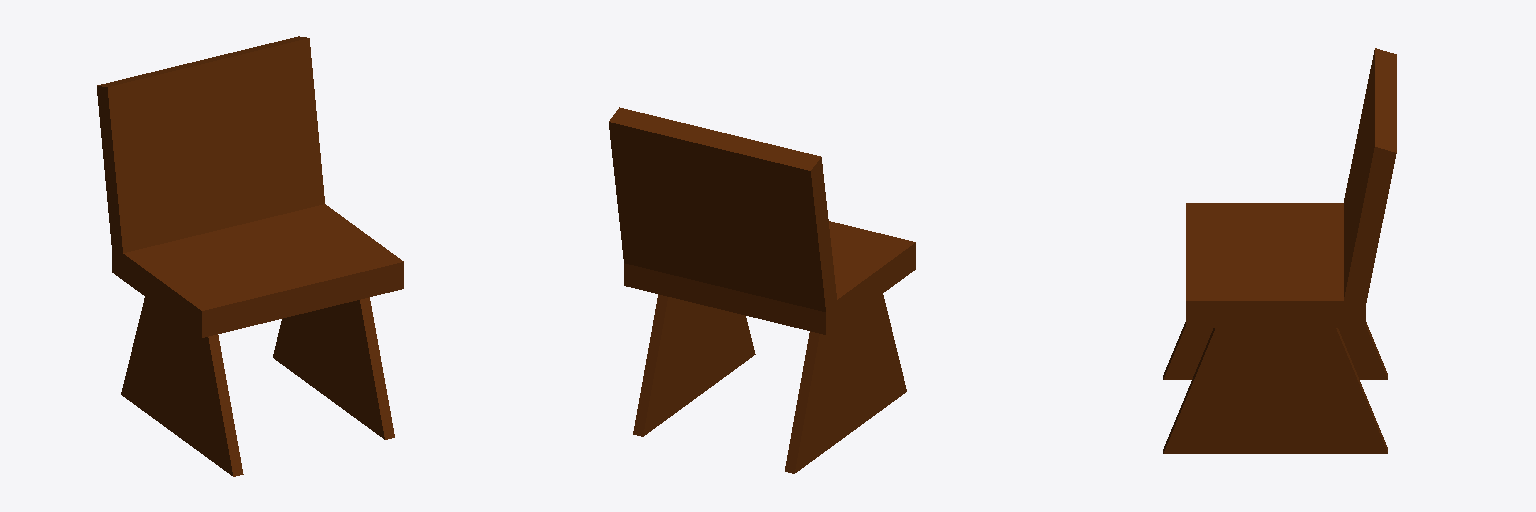
The model's file is bench1.obj.
3 renders of one model, left to right at view 1: azimuth 30°, elevation 25°; view 2: azimuth 150°, elevation 25°; view 3: azimuth 270°, elevation 25°, orthographic.
Visible parts, largest first — view 1: Object.1, Object.4, Object.2, Object.3; view 2: Object.1, Object.2, Object.4, Object.3; view 3: Object.3, Object.4, Object.1, Object.2.
Part boxes in pixels (left/top/right/bottom): Object.1: left=97, top=36, right=324, bottom=256; Object.4: left=112, top=204, right=403, bottom=337; Object.2: left=121, top=297, right=243, bottom=476; Object.3: left=273, top=297, right=394, bottom=439; Object.1: left=609, top=107, right=837, bottom=315; Object.2: left=785, top=294, right=906, bottom=473; Object.4: left=624, top=221, right=915, bottom=334; Object.3: left=633, top=294, right=755, bottom=436; Object.3: left=1163, top=328, right=1387, bottom=453; Object.4: left=1186, top=203, right=1365, bottom=327; Object.1: left=1344, top=48, right=1396, bottom=310; Object.2: left=1163, top=322, right=1387, bottom=379.
Bounding box in the file's own units: 1 × 1.5 × 1.